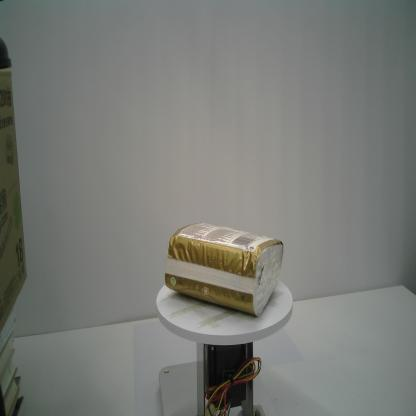Tissue: (164, 222, 284, 316)
